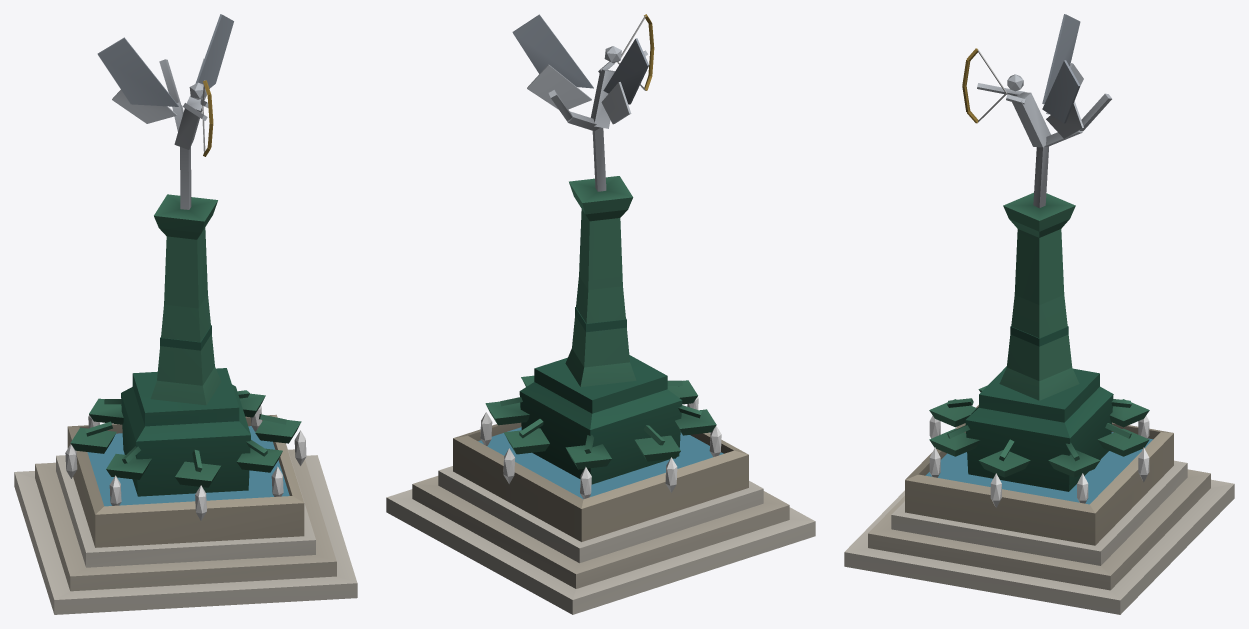
File: ld_statue_lo-DAaJiWPB.glb
The picture shows the model from 3 angles, left to right: view 1: azimuth 30°, elevation 25°; view 2: azimuth 150°, elevation 25°; view 3: azimuth 270°, elevation 25°; orthographic projection. The views are drawn at different scales.
Size of the model in its own units: 5.36 by 7.5 by 5.36.
